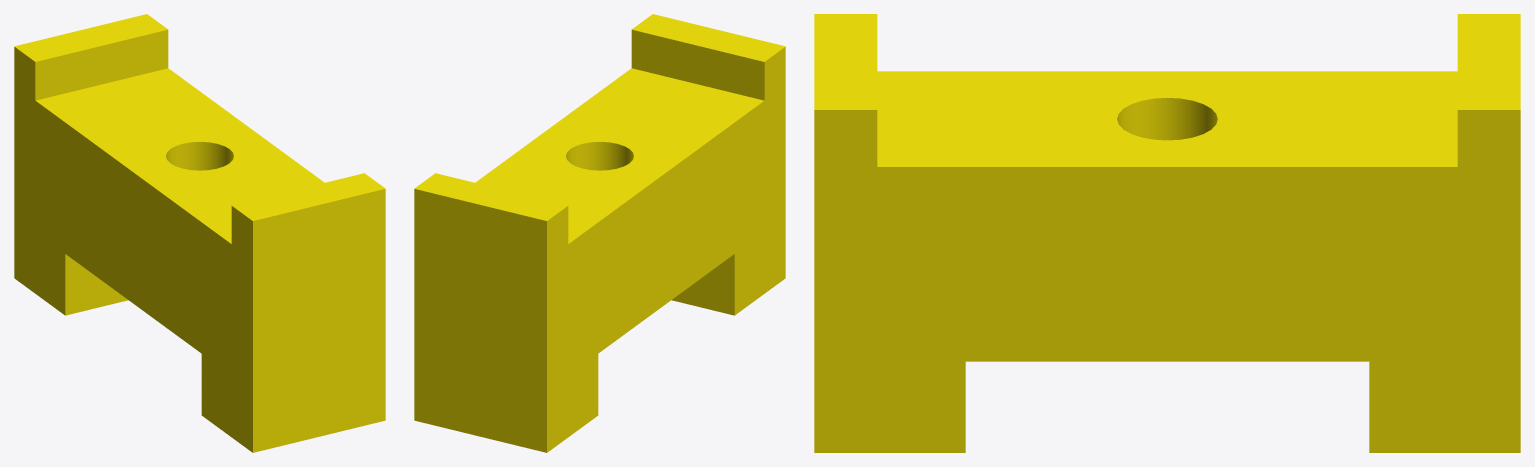
The model's file is modelo_didático_15.glb.
3 renders of one model, left to right at view 1: azimuth 30°, elevation 25°; view 2: azimuth 150°, elevation 25°; view 3: azimuth 270°, elevation 25°, orthographic. The views are drawn at different scales.
Visible parts, largest first — view 1: Modelo didatico 15.SLDPRT; view 2: Modelo didatico 15.SLDPRT; view 3: Modelo didatico 15.SLDPRT.
Boxes of the visible parts, x1,y1,x2,y2 form: Modelo didatico 15.SLDPRT: (14,14,385,452); Modelo didatico 15.SLDPRT: (414,14,785,452); Modelo didatico 15.SLDPRT: (814,14,1520,452).
Bounding box in the file's own units: 0.018 × 0.03 × 0.056.
